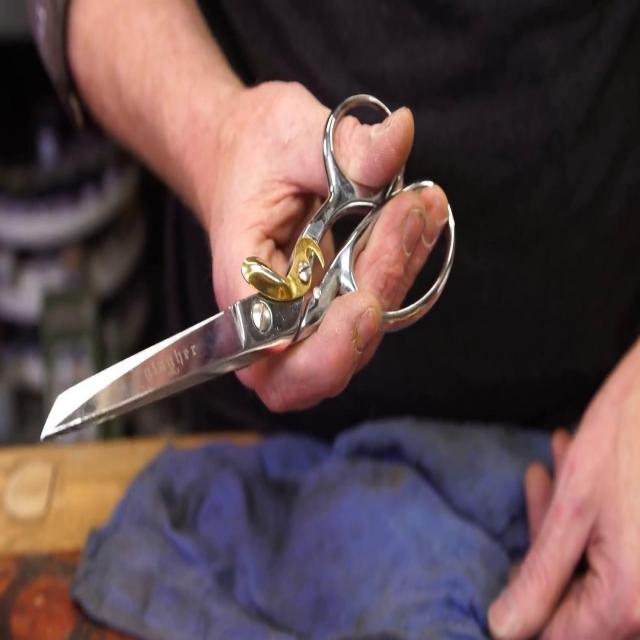scissor: (40, 92, 457, 443)
